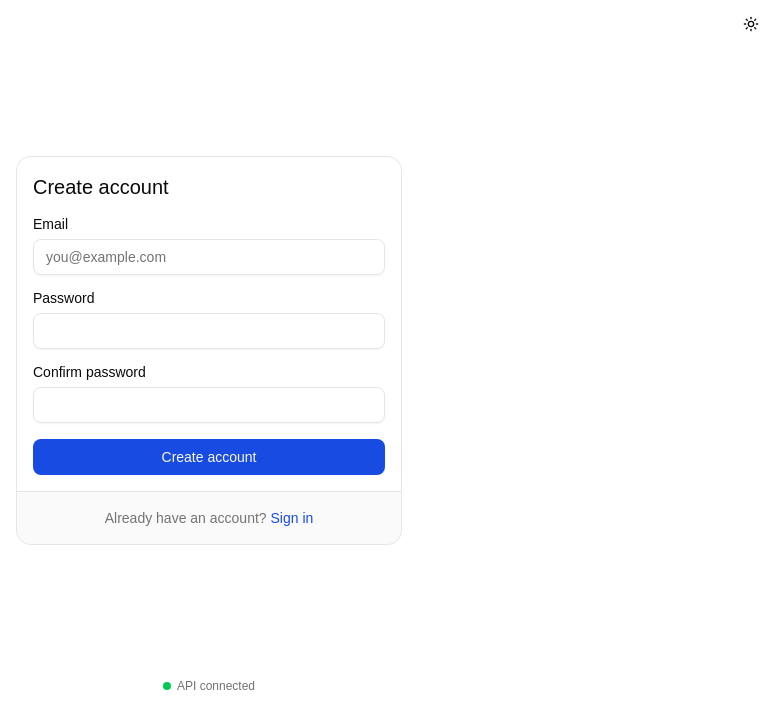
it: Signup page › shows password-mismatch error when passwords differ
Type "user@example.com" into the field labelled "Email" at (209, 256), box [33,238,385,274]
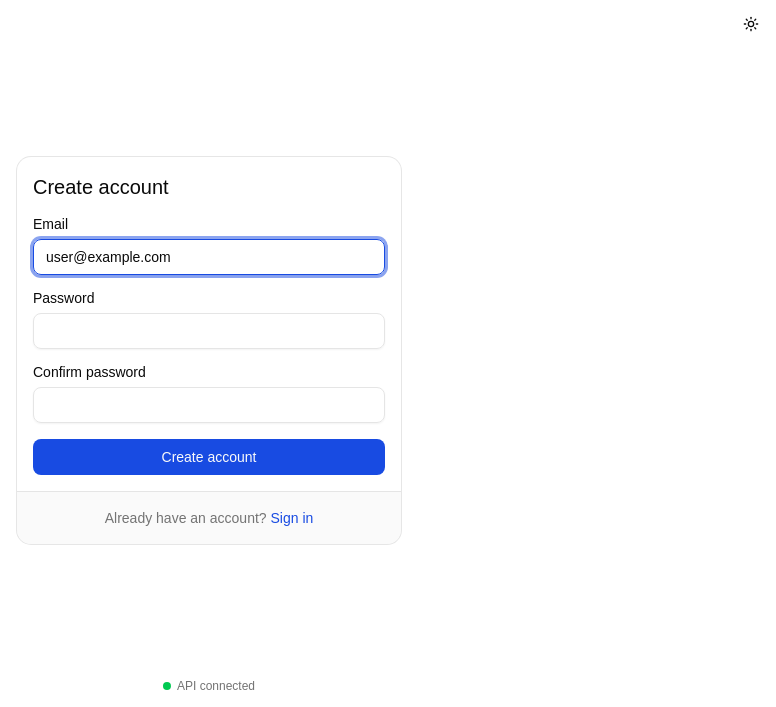
Type "password123" into the password field labelled "Password" at (209, 330), box [33,312,385,348]
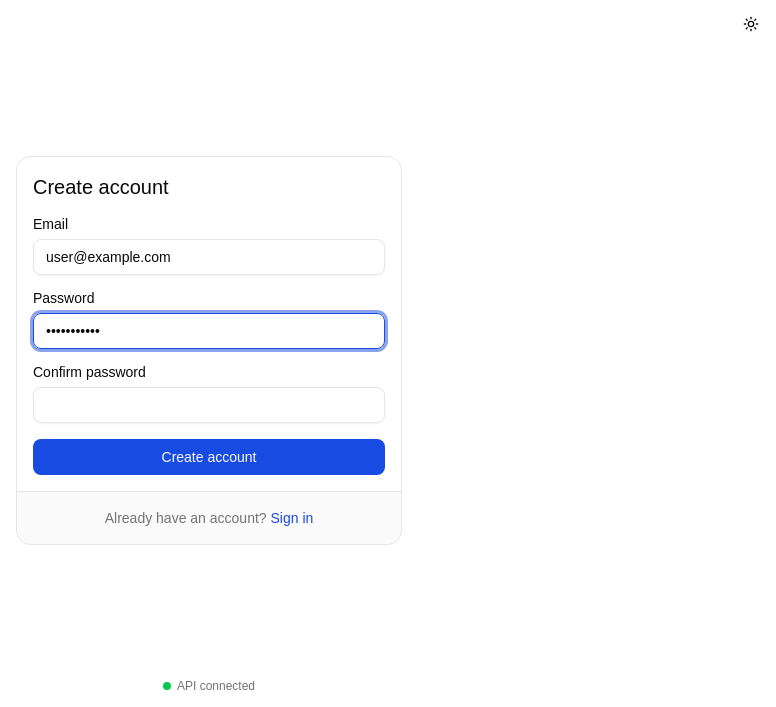
Type "different456" into the password field labelled "Confirm password" at (209, 404), box [33,386,385,422]
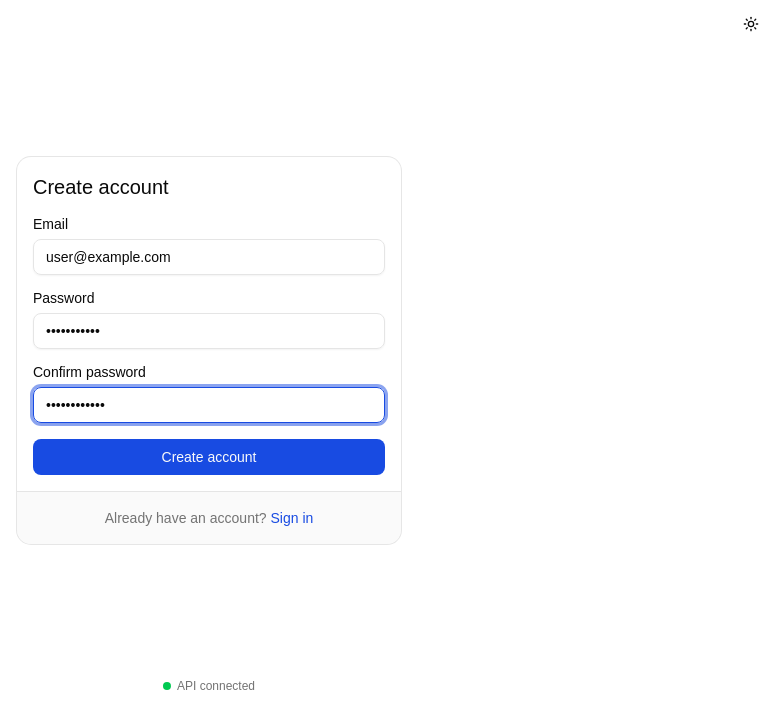
Click the button "Create account" at (209, 456), box [33,438,385,474]
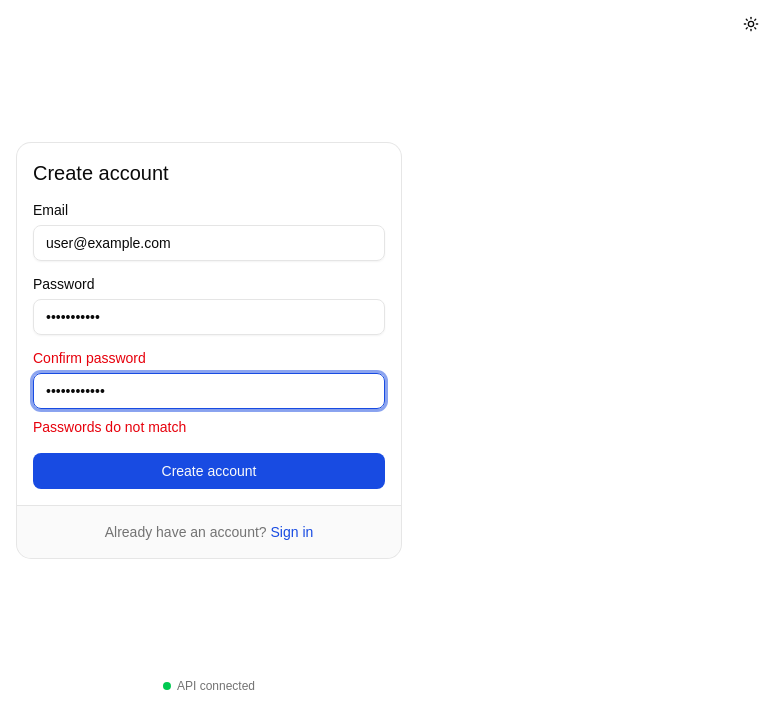
Check: the text "Passwords do not match" is shown, box [33,418,186,434]
